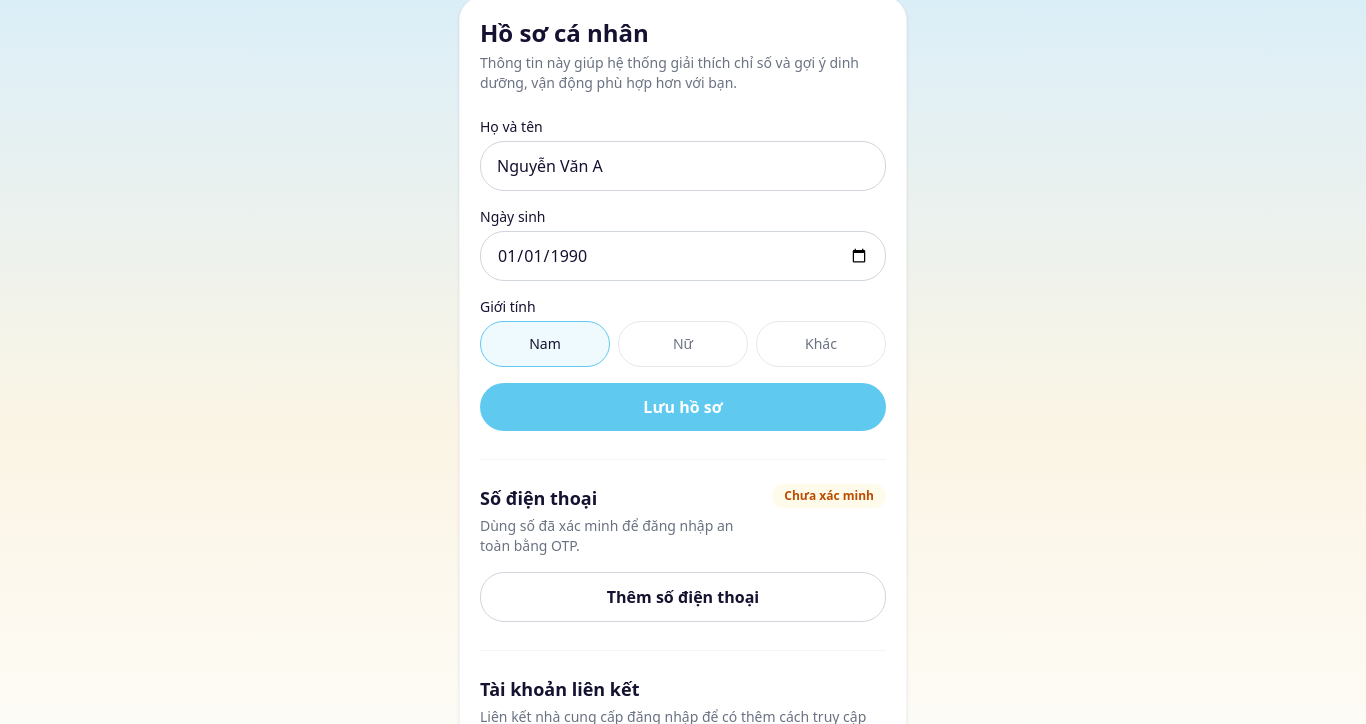
Test case: ProfilePage provider linking › keeps the link flow open with safe guidance when the phone belongs elsewhere
The image size is (1366, 724).
Click the button "Thêm số điện thoại".
click(683, 597)  # box left=480, top=572, right=886, bottom=622
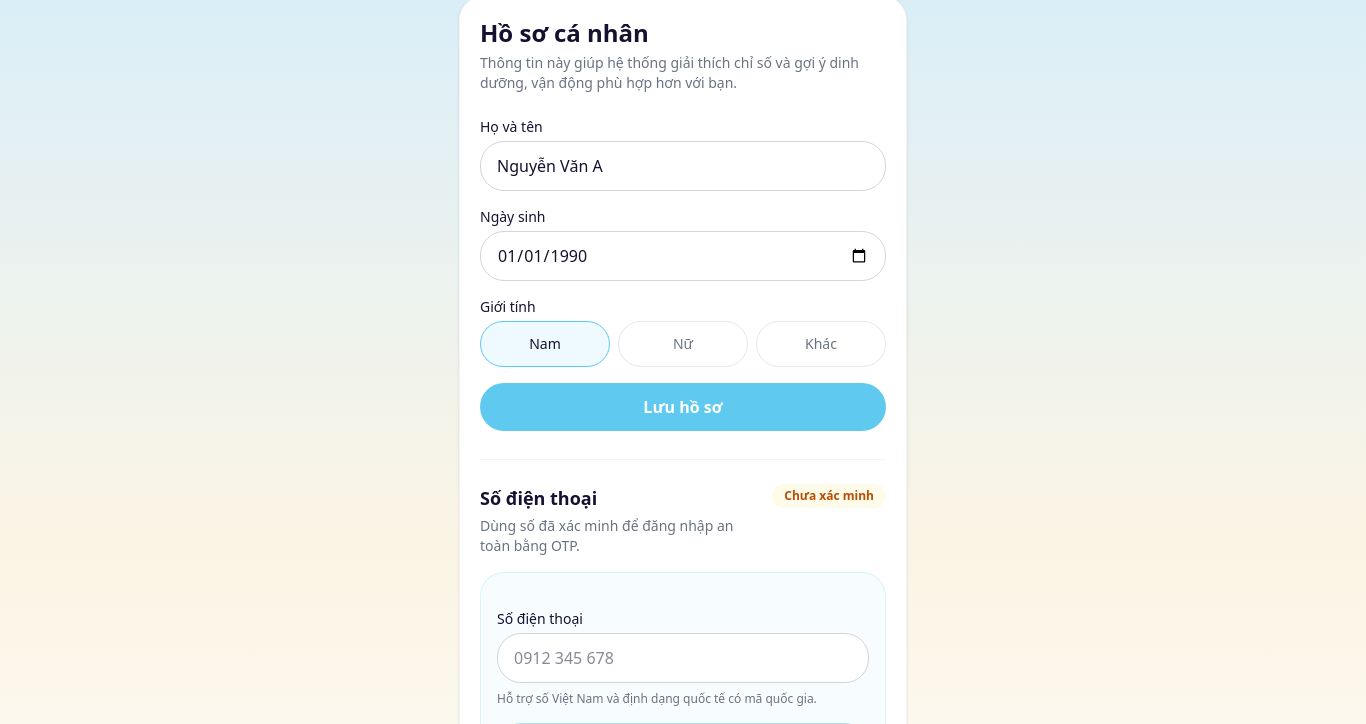
Type "0912345678" into the field labelled "Số điện thoại".
click(683, 658); type("0912345678")  # box left=497, top=633, right=869, bottom=683
(page scrolled)
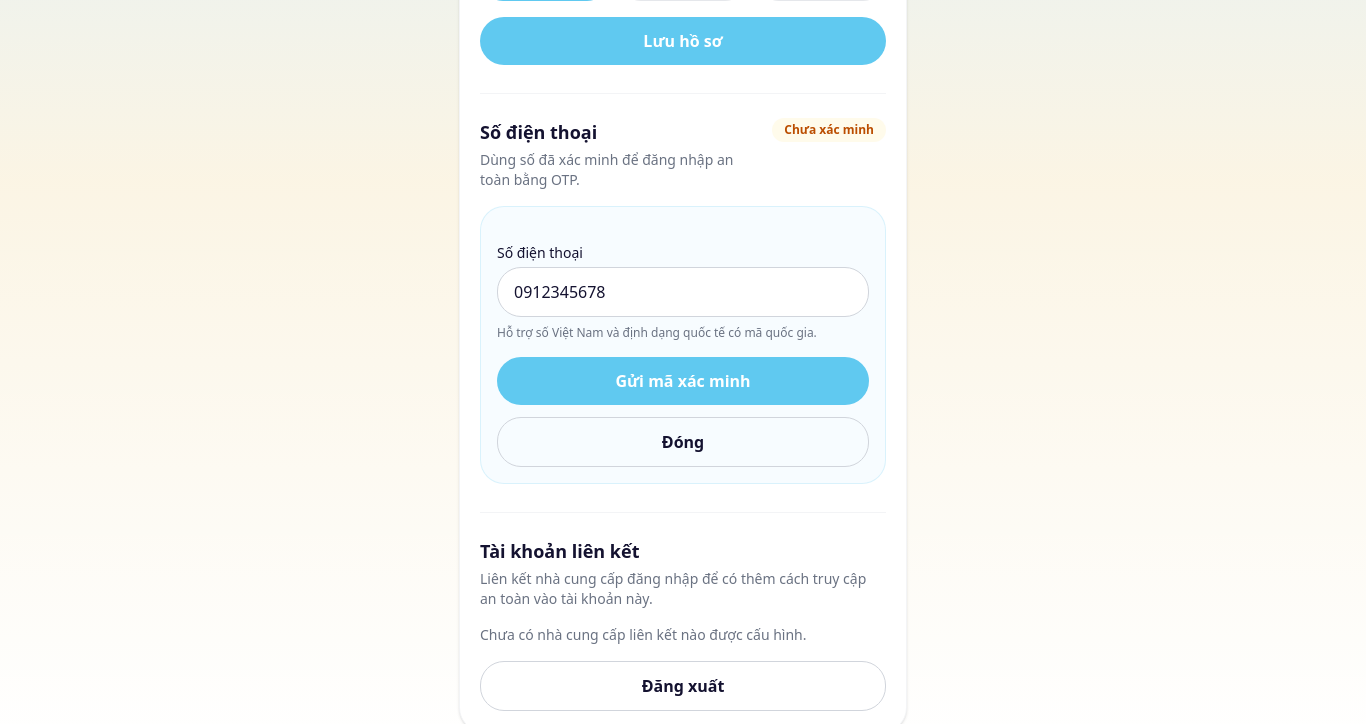
Click the button "Gửi mã xác minh".
click(683, 381)  # box left=497, top=357, right=869, bottom=405
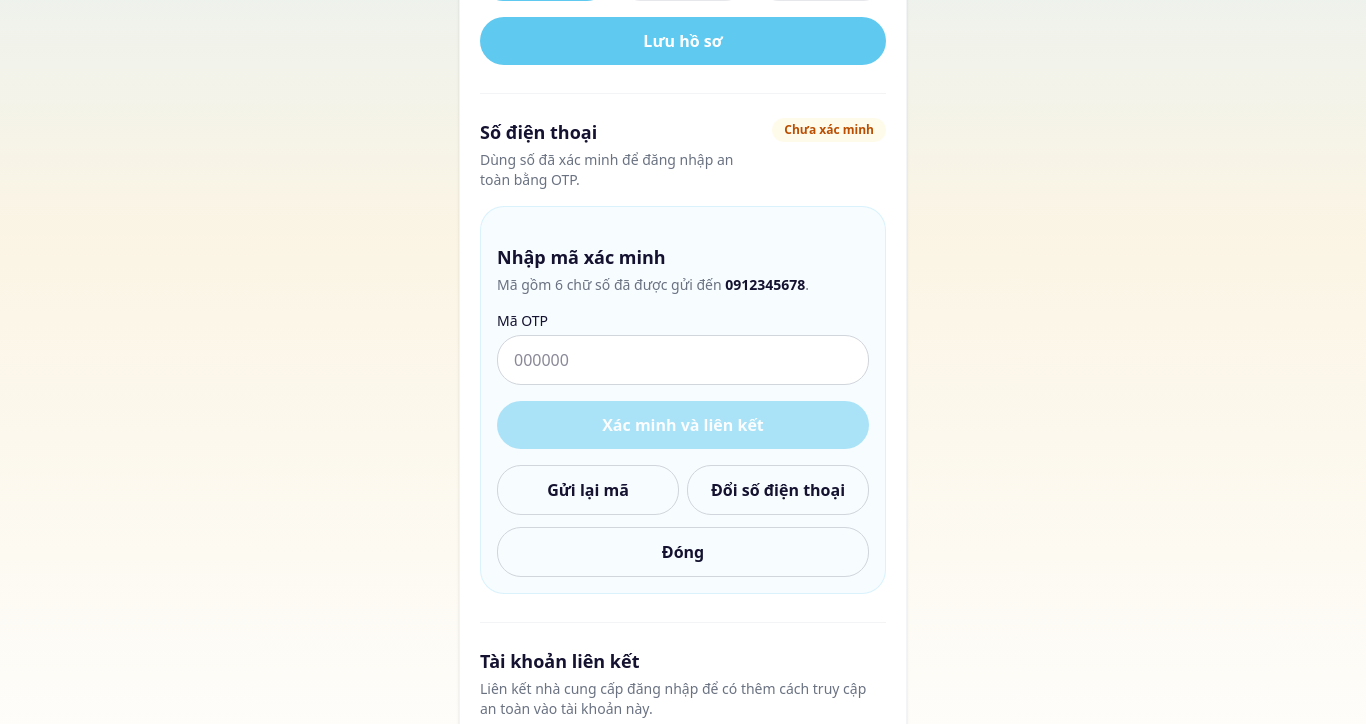
Type "123456" into the field labelled "Mã OTP".
click(683, 360); type("123456")  # box left=497, top=335, right=869, bottom=385
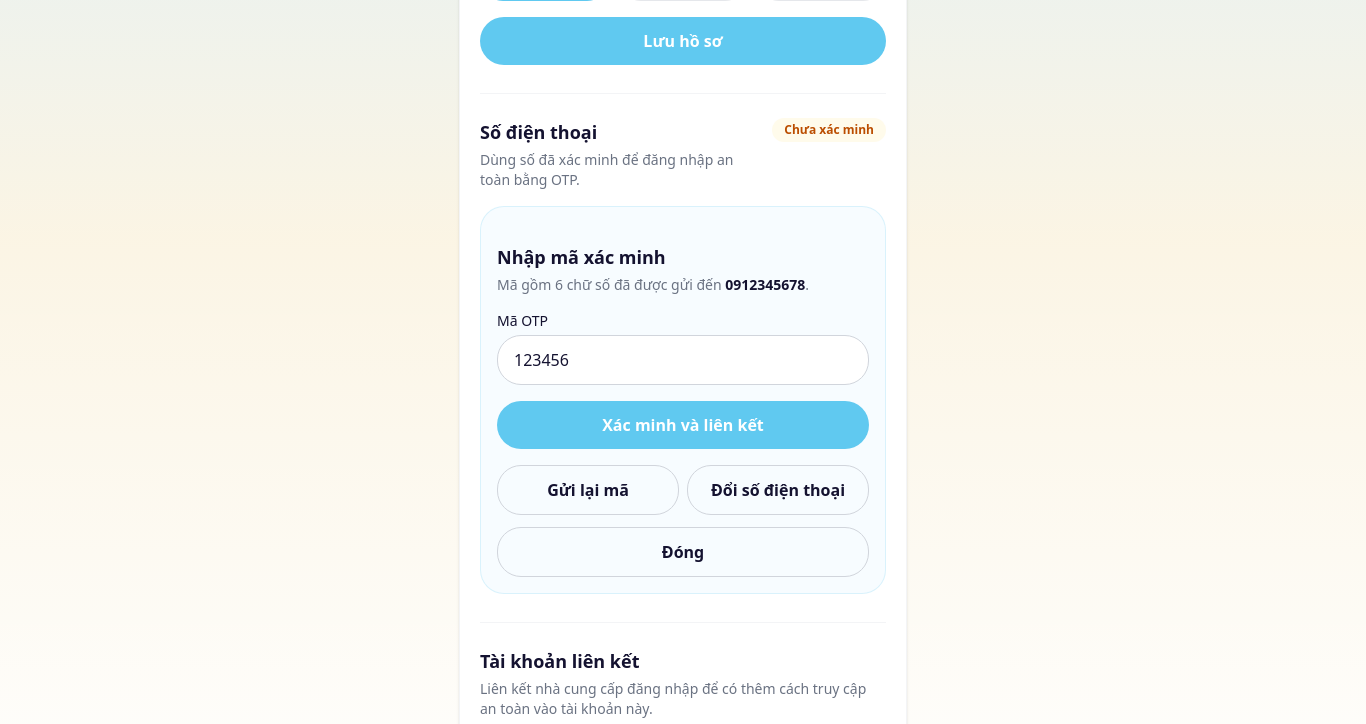
Click the button "Xác minh và liên kết".
click(683, 425)  # box left=497, top=401, right=869, bottom=449
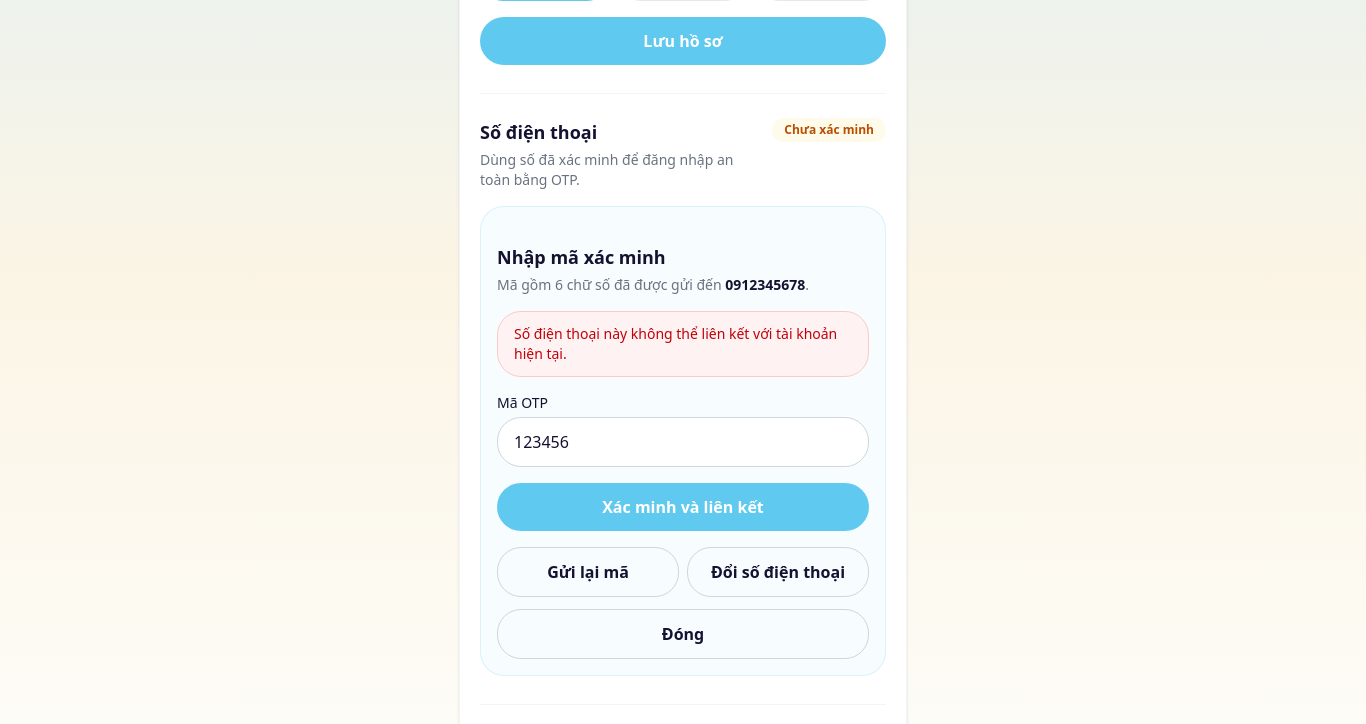
Expected: the button "Đổi số điện thoại" is shown, left=687, top=547, right=869, bottom=597
Expected: the message reads "Số điện thoại này không thể liên kết với tài khoản hiện tại.", left=514, top=324, right=837, bottom=363
